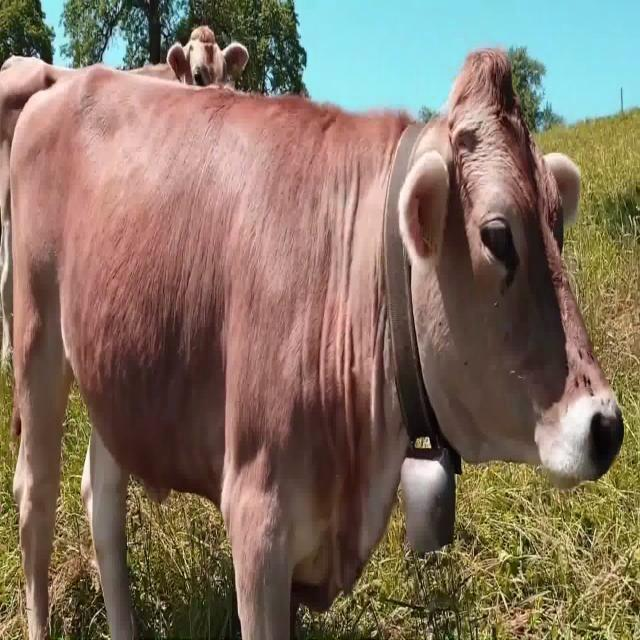cow: (11, 50, 621, 640)
